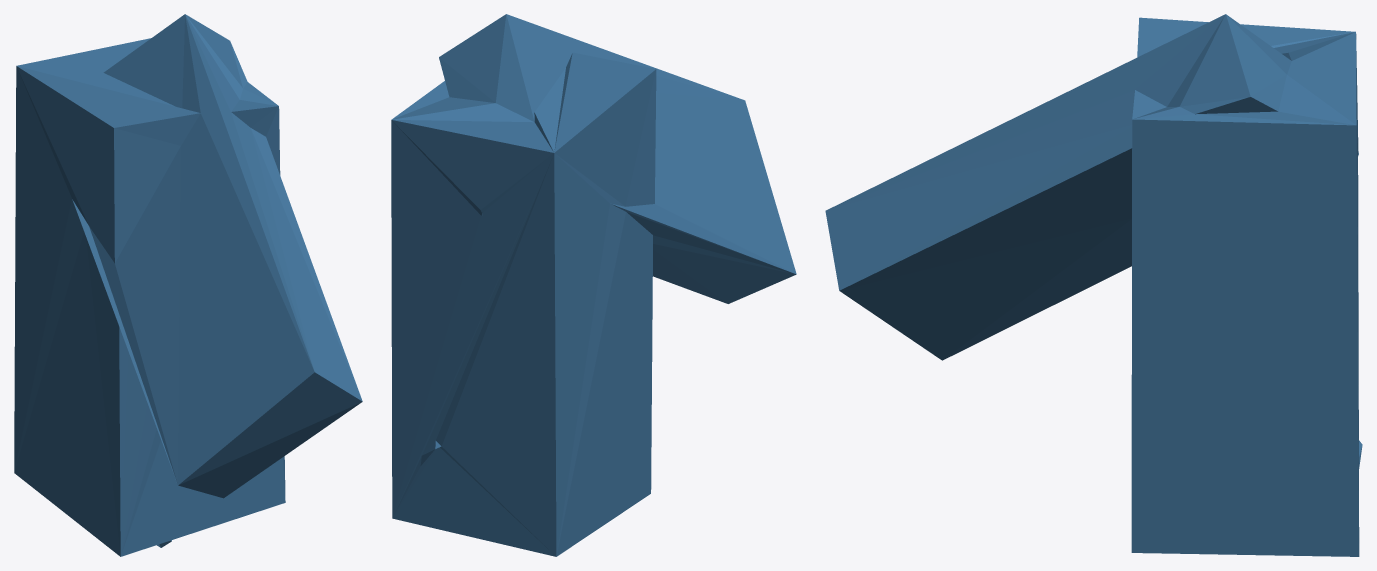
3 renders of one model, left to right at view 1: azimuth 30°, elevation 25°; view 2: azimuth 150°, elevation 25°; view 3: azimuth 270°, elevation 25°, orthographic. The views are drawn at different scales.
Visible parts, largest first — view 1: 786_Cube.3168; view 2: 786_Cube.3168; view 3: 786_Cube.3168.
Boxes of the visible parts, x1,y1,x2,y2 form: 786_Cube.3168: (14,14,362,556); 786_Cube.3168: (391,14,796,556); 786_Cube.3168: (825,14,1362,556).
Size of the model in its own units: 6.29 by 14.45 by 13.09.
